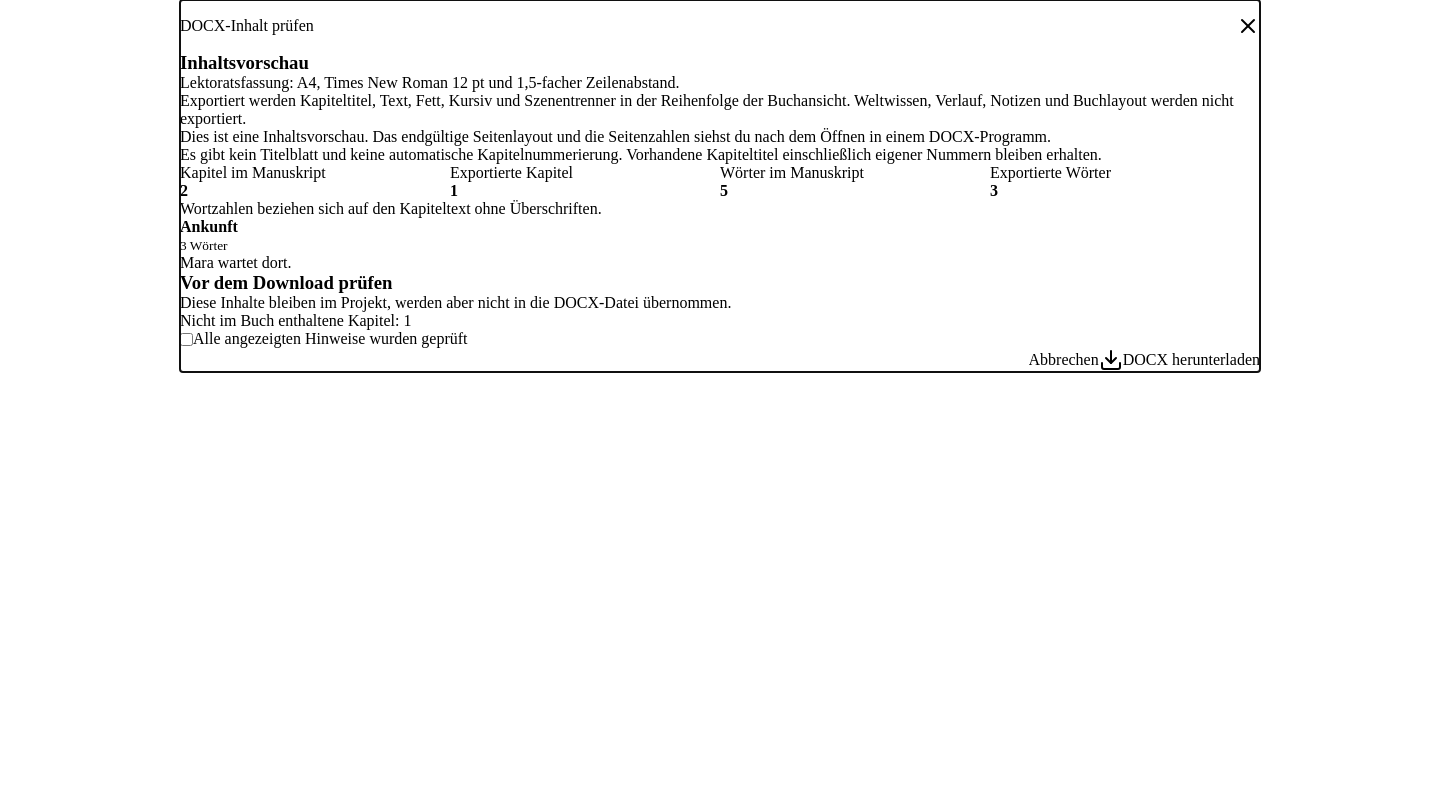
ManuscriptExportDialog › saves before preview and again before the acknowledged download
The width and height of the screenshot is (1440, 810).
Expected: the heading "Ankunft" is shown, 180,218 -> 238,235
Expected: the list item "Nicht im Buch enthaltene Kapitel: 1" is shown, 180,312 -> 412,329
Click the checkbox labelled "Alle angezeigten Hinweise wurden geprüft". click: (186, 339)
box: 180,332 -> 193,346
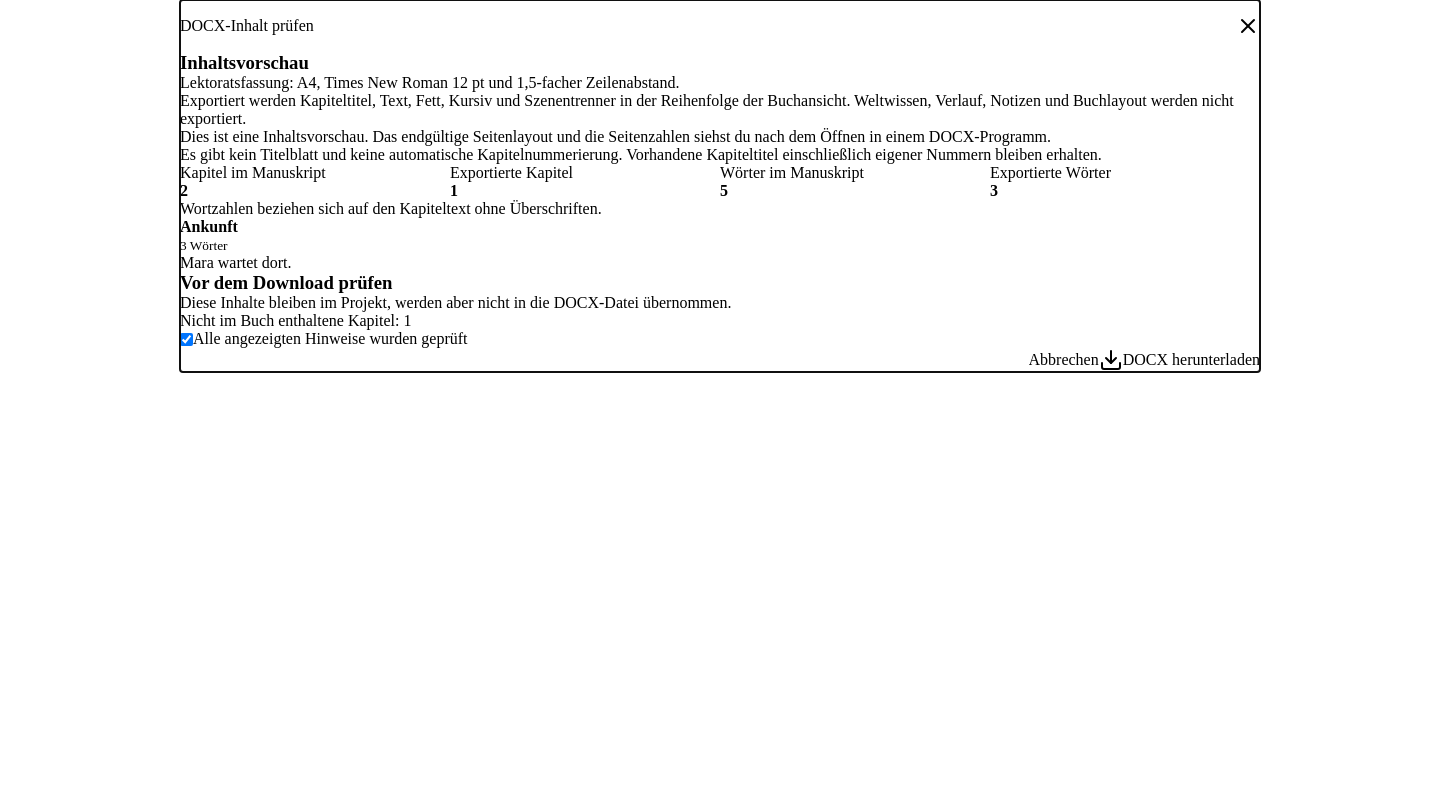
Click the button "DOCX herunterladen". click: (1179, 360)
box: 1099,348 -> 1260,372
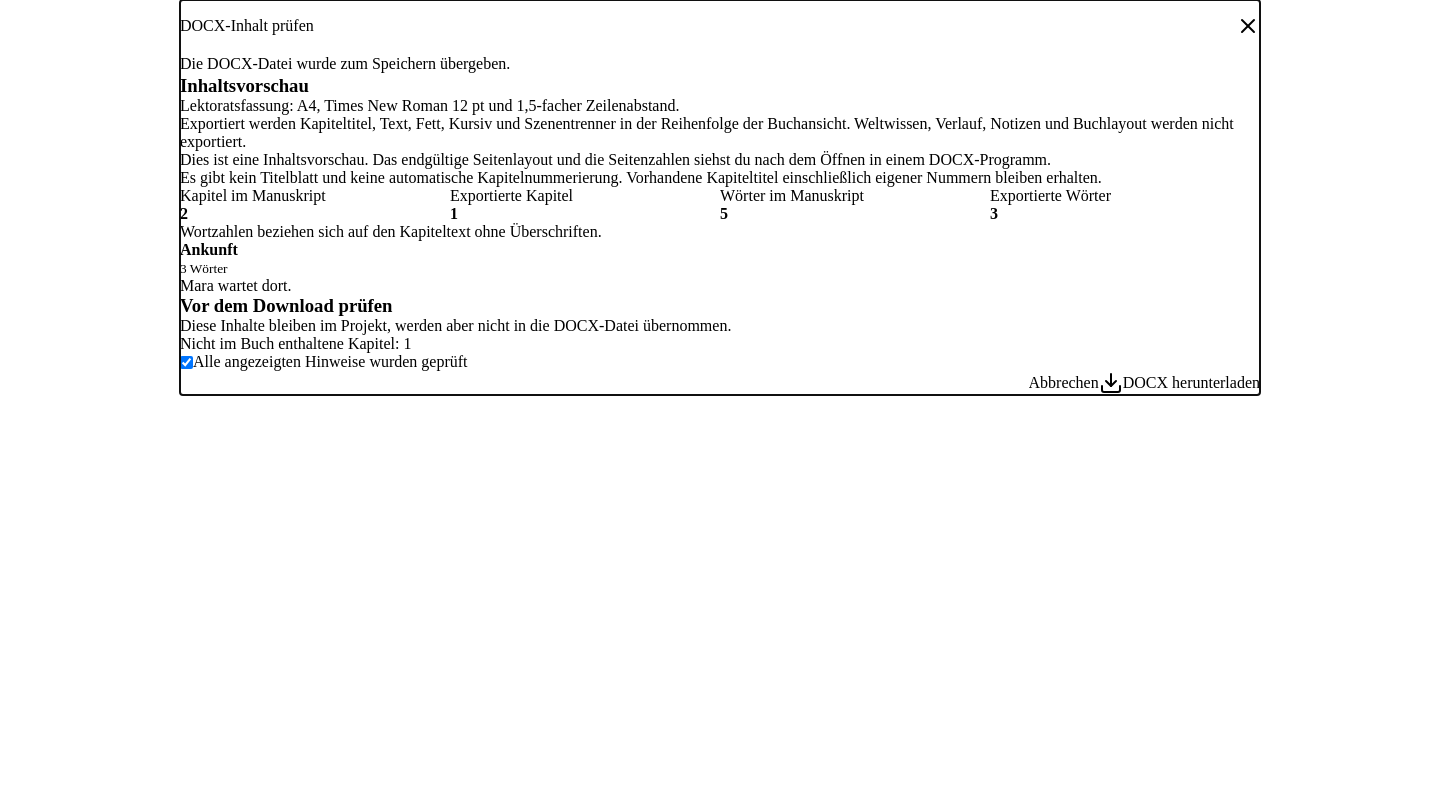
Result: the text "Die DOCX-Datei wurde zum Speichern übergeben." is shown at 180,52 -> 510,75
